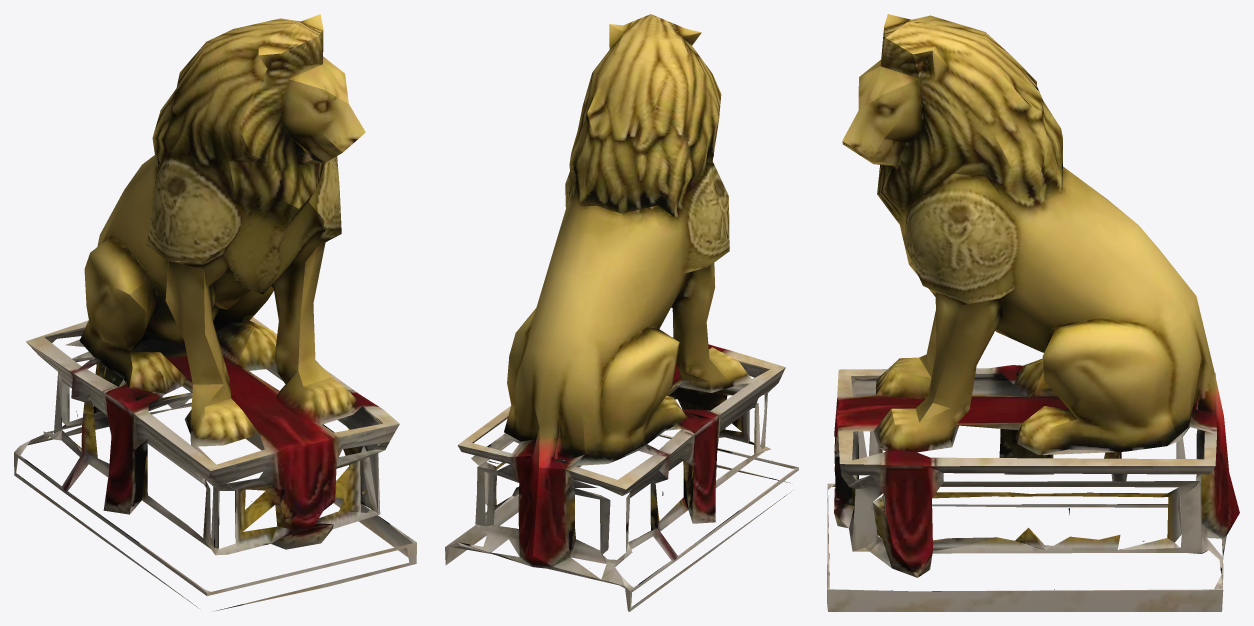
File: town_lion_lod.glb
The picture shows the model from 3 angles, left to right: view 1: azimuth 30°, elevation 25°; view 2: azimuth 150°, elevation 25°; view 3: azimuth 270°, elevation 25°; orthographic projection. The views are drawn at different scales.
Parts seen in each view (by area): view 1: town_lion; view 2: town_lion; view 3: town_lion.
Boxes of the visible parts, bbox=[...] form: town_lion: bbox=[14, 14, 416, 611]; town_lion: bbox=[445, 14, 798, 611]; town_lion: bbox=[827, 14, 1239, 611].
Bounding box in the file's own units: 1.9 × 4.49 × 3.04.
1 material, 1 textured.
